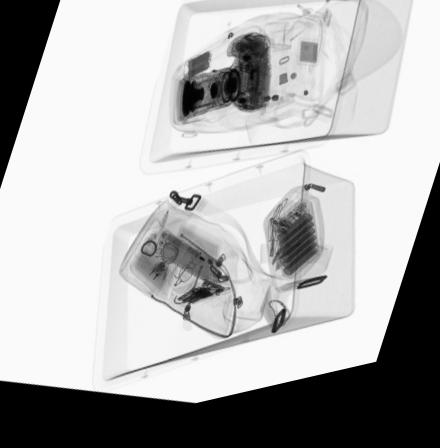Powerbank: (275, 211, 319, 292)
